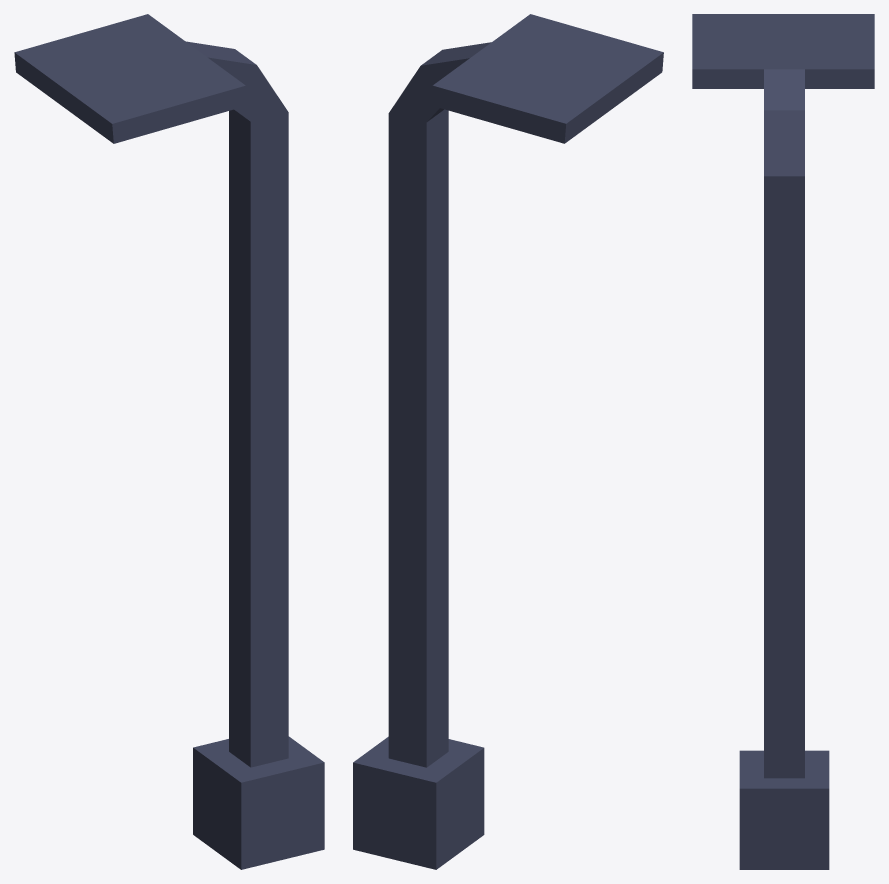
Rendered from lampito.fbx.
The picture shows the model from 3 angles, left to right: view 1: azimuth 30°, elevation 25°; view 2: azimuth 150°, elevation 25°; view 3: azimuth 270°, elevation 25°; orthographic projection. The views are drawn at different scales.
Parts seen in each view (by area): view 1: Cube.005; view 2: Cube.005; view 3: Cube.005.
Boxes of the visible parts, bbox=[...] form: Cube.005: bbox=[14, 14, 324, 869]; Cube.005: bbox=[353, 14, 663, 869]; Cube.005: bbox=[692, 14, 874, 869].
Size of the model in its own units: 218 by 710 by 156.
